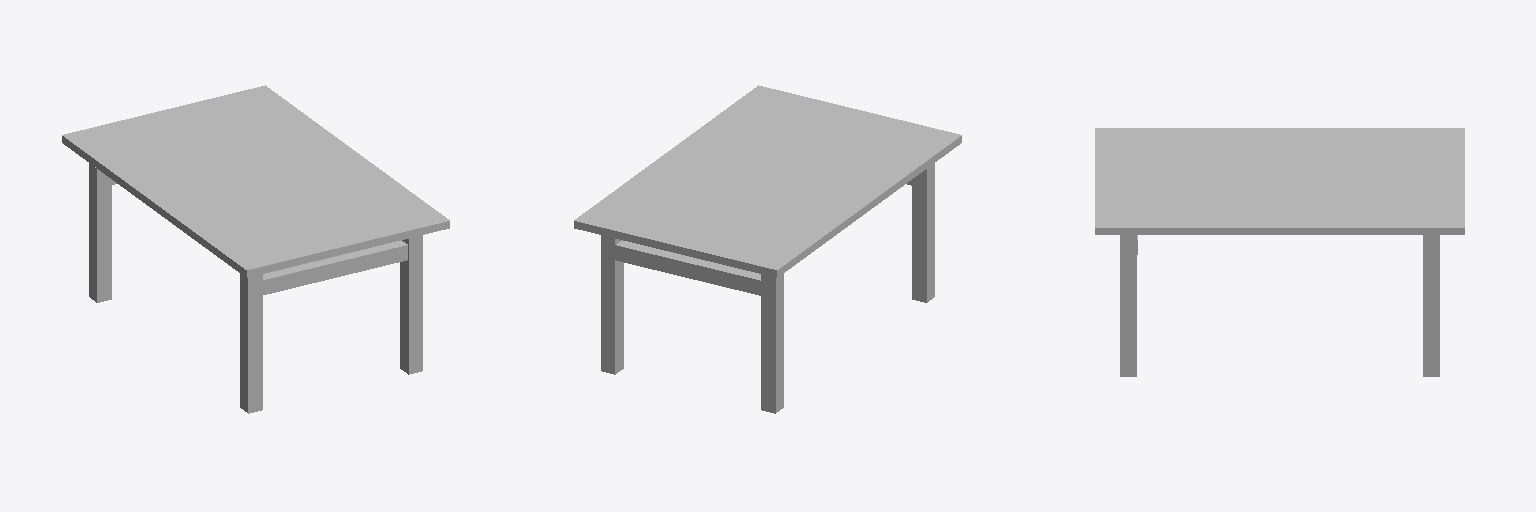
The model's file is woodenTable.obj.
3 renders of one model, left to right at view 1: azimuth 30°, elevation 25°; view 2: azimuth 150°, elevation 25°; view 3: azimuth 270°, elevation 25°, orthographic.
Visible parts, largest first — view 1: Platte, Bein, Stütze_1, Bein_2, Bein_1; view 2: Platte, Stütze, Bein_2, Bein, Bein_3; view 3: Platte, Bein_1, Bein_3.
Part boxes in pixels (x1,y1,x2,y2): Platte: (62, 85, 449, 277); Bein: (240, 274, 262, 413); Stütze_1: (263, 240, 407, 294); Bein_2: (89, 163, 111, 302); Bein_1: (400, 235, 422, 374); Platte: (574, 85, 961, 277); Stütze: (615, 240, 760, 295); Bein_2: (761, 274, 783, 413); Bein: (912, 163, 934, 302); Bein_3: (601, 235, 623, 374); Platte: (1095, 128, 1464, 234); Bein_1: (1120, 235, 1136, 376); Bein_3: (1423, 235, 1439, 376).
Size of the model in its own units: 140 by 103 by 220.